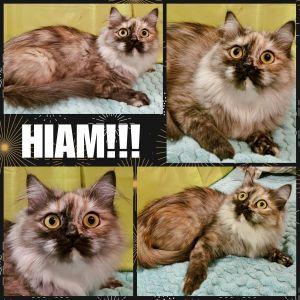persian: (214, 11, 297, 95)
